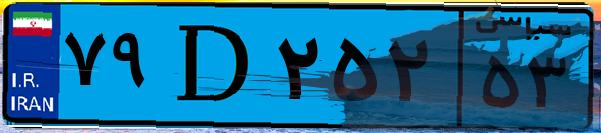2: (270, 28, 330, 110), (385, 28, 445, 110)
3: (525, 38, 570, 115)
5: (330, 28, 385, 110), (475, 38, 525, 113)
7: (57, 26, 110, 100)
9: (110, 28, 158, 98)
D: (158, 12, 270, 120)
